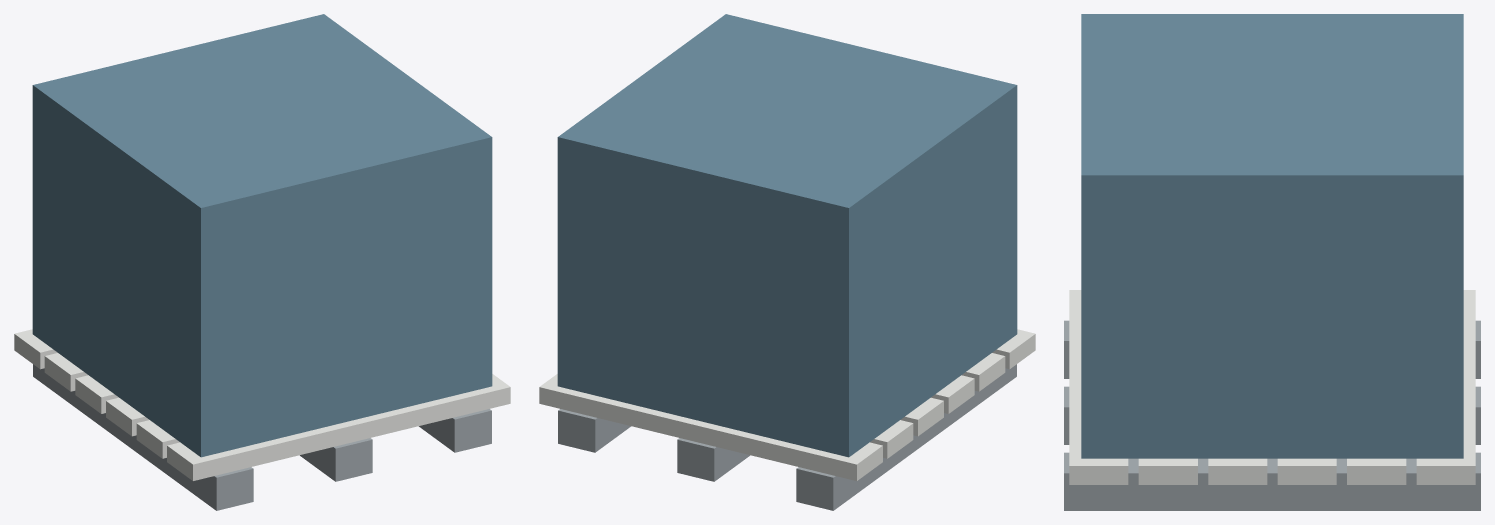
File: long-haul-trucking-and-truck-stop-pallet-load-c9beb577__13987.glb
3 renders of one model, left to right at view 1: azimuth 30°, elevation 25°; view 2: azimuth 150°, elevation 25°; view 3: azimuth 270°, elevation 25°, orthographic. The views are drawn at different scales.
Visible parts, largest first — view 1: pallet-load; view 2: pallet-load; view 3: pallet-load.
Boxes of the visible parts, box(x1,y1,x2,y2) form: pallet-load: box(14, 14, 510, 510); pallet-load: box(539, 14, 1035, 510); pallet-load: box(1064, 14, 1480, 510).
Bounding box in the file's own units: 1.2 × 1.08 × 1.2.
